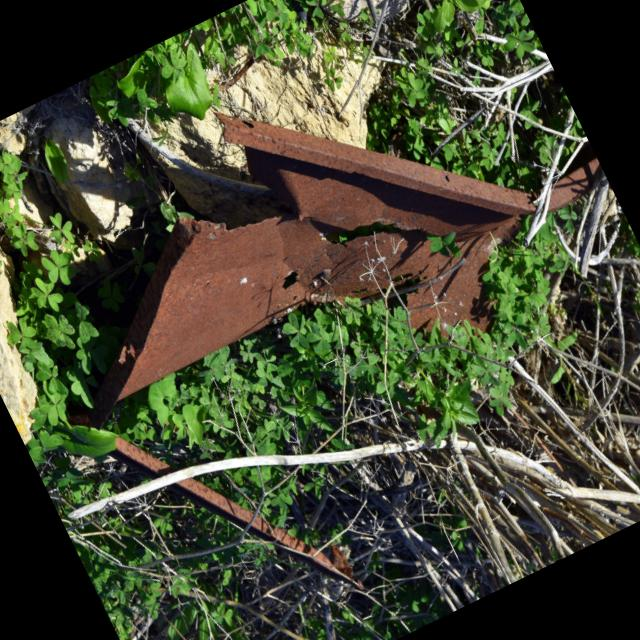Other litter: (87, 109, 606, 425), (115, 431, 355, 581)
